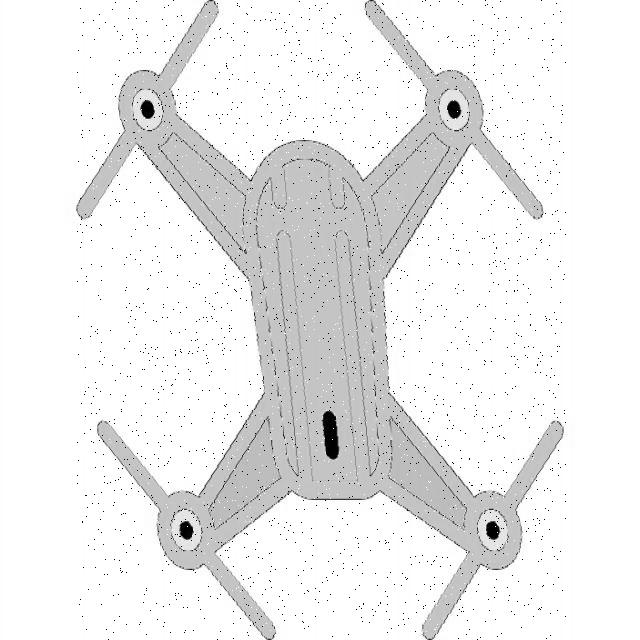drone: (78, 1, 567, 640)
